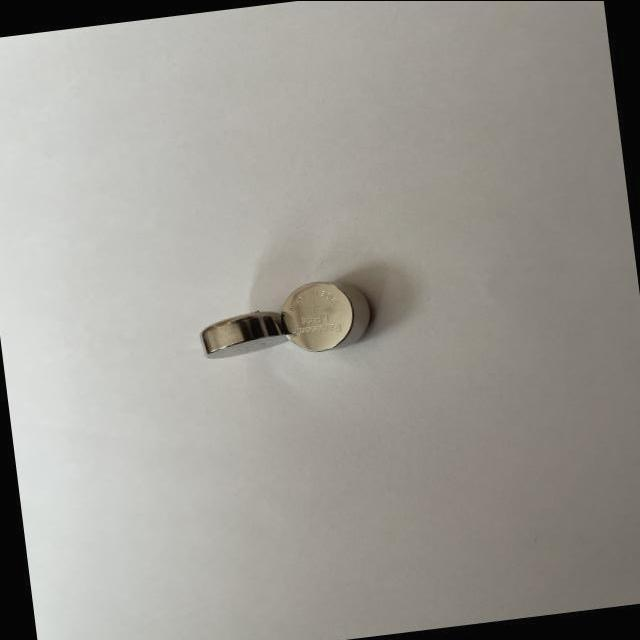COIN: (280, 274, 374, 354), (196, 306, 290, 361)
